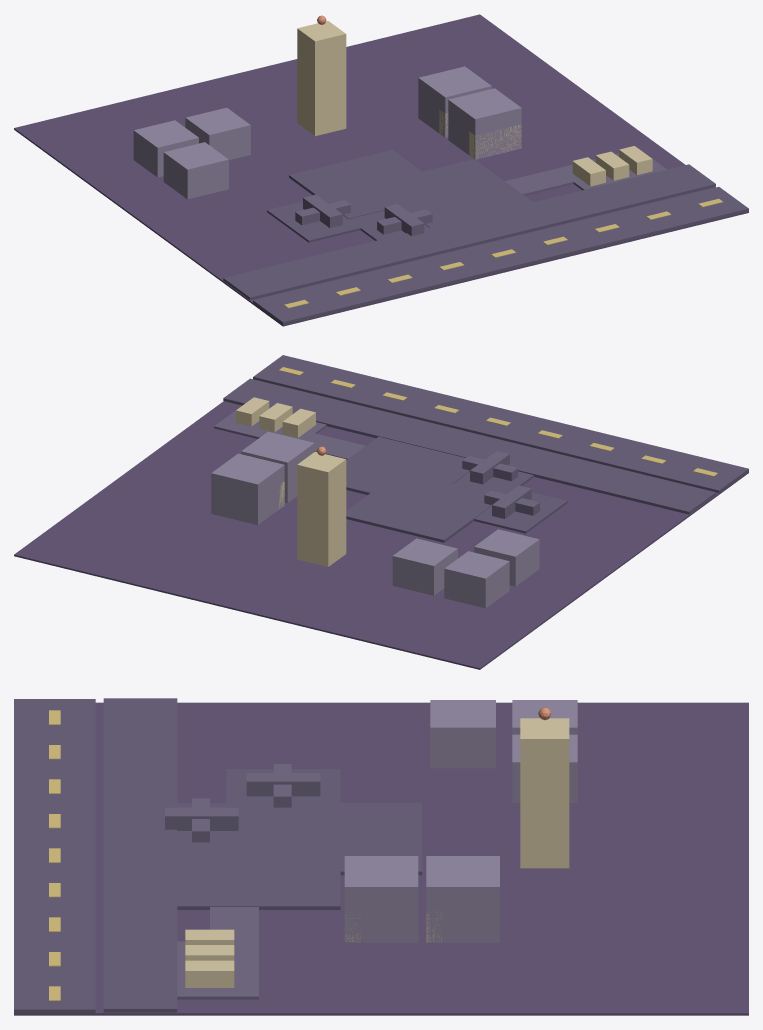
The model's file is stage_13.glb.
3 renders of one model, top to bottom at view 1: azimuth 30°, elevation 25°; view 2: azimuth 150°, elevation 25°; view 3: azimuth 270°, elevation 25°, orthographic. The views are drawn at different scales.
Parts seen in each view (by area): view 1: geometry_0; view 2: geometry_0; view 3: geometry_0.
Part boxes in pixels (x1=…): geometry_0: x1=14, y1=14, x2=748, y2=326; geometry_0: x1=14, y1=355, x2=748, y2=669; geometry_0: x1=14, y1=698, x2=748, y2=1015.
Bounding box in the file's own units: 9 × 2.06 × 9.
